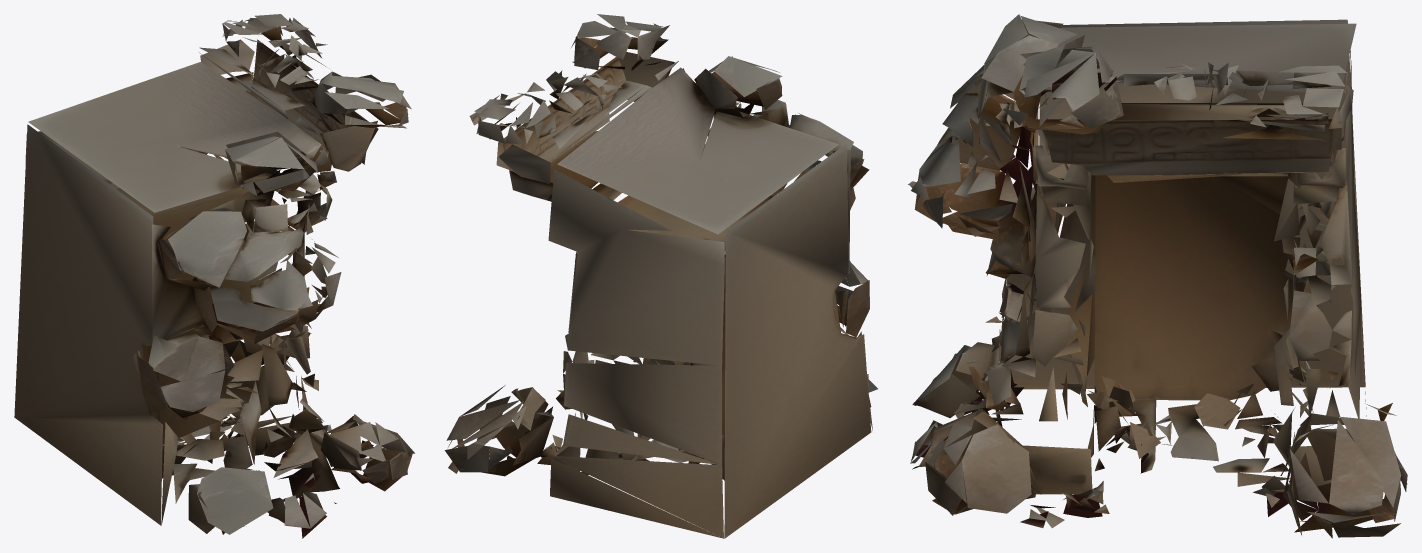
The model's file is fin_collapsed_cave_exit_LOD3.glb.
The picture shows the model from 3 angles, left to right: view 1: azimuth 30°, elevation 25°; view 2: azimuth 150°, elevation 25°; view 3: azimuth 270°, elevation 25°; orthographic projection. The views are drawn at different scales.
Visible parts, largest first — view 1: tripo_node_e22f4373-47d0-40c1-ba41-8e5068f57354; view 2: tripo_node_e22f4373-47d0-40c1-ba41-8e5068f57354; view 3: tripo_node_e22f4373-47d0-40c1-ba41-8e5068f57354.
Part boxes in pixels (x1=…): tripo_node_e22f4373-47d0-40c1-ba41-8e5068f57354: x1=14, y1=14, x2=414, y2=538; tripo_node_e22f4373-47d0-40c1-ba41-8e5068f57354: x1=444, y1=14, x2=877, y2=538; tripo_node_e22f4373-47d0-40c1-ba41-8e5068f57354: x1=908, y1=14, x2=1407, y2=538.
Bounding box in the file's own units: 0.7937 × 1.03 × 0.9638.
1 material, 1 textured.
